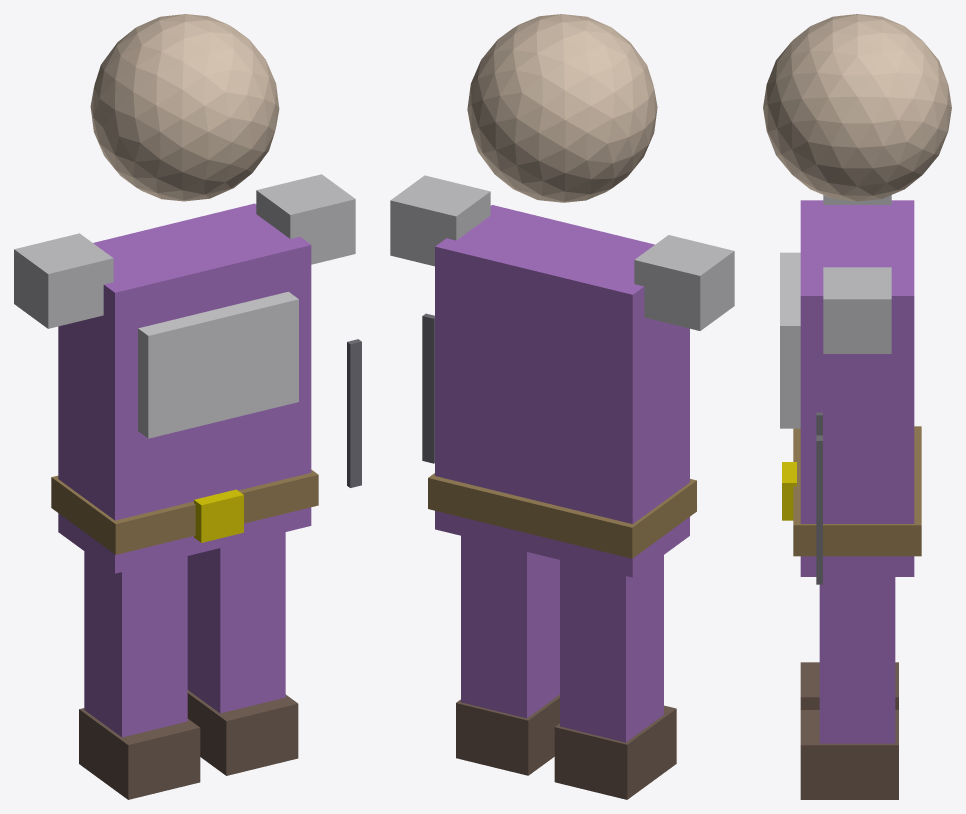
The model's file is assassin_m.glb.
3 renders of one model, left to right at view 1: azimuth 30°, elevation 25°; view 2: azimuth 150°, elevation 25°; view 3: azimuth 270°, elevation 25°, orthographic.
Visible parts, largest first — view 1: geometry_0; view 2: geometry_0; view 3: geometry_0.
Part boxes in pixels (bbox=[...]): geometry_0: bbox=[14, 14, 361, 799]; geometry_0: bbox=[390, 14, 734, 799]; geometry_0: bbox=[763, 14, 951, 799].
Size of the model in its own units: 0.9475 by 2.15 by 0.5.
